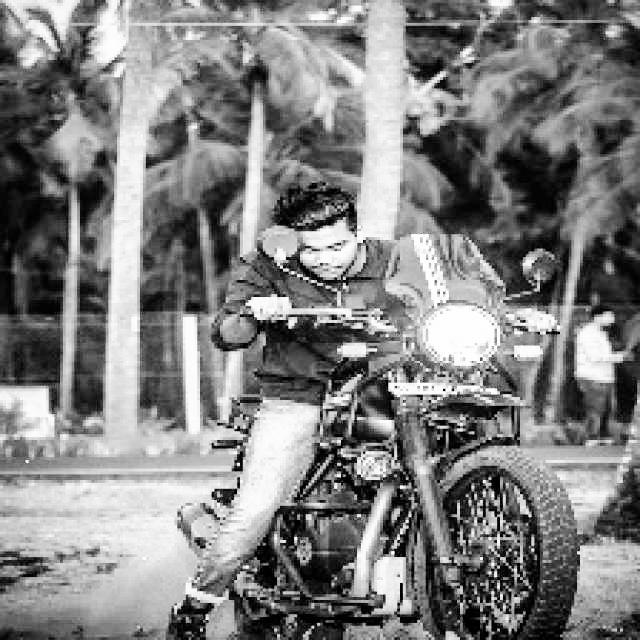Bike: (307, 299, 615, 639)
